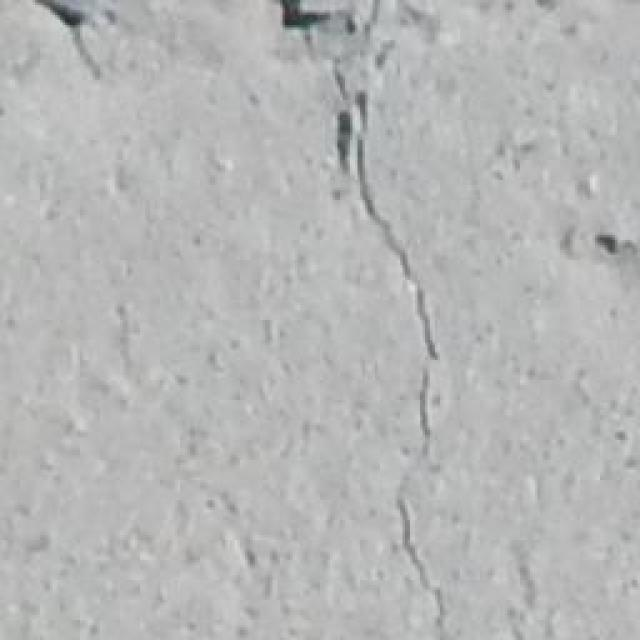concrete-crack: (324, 0, 452, 634), (32, 0, 118, 80), (280, 0, 330, 32)
